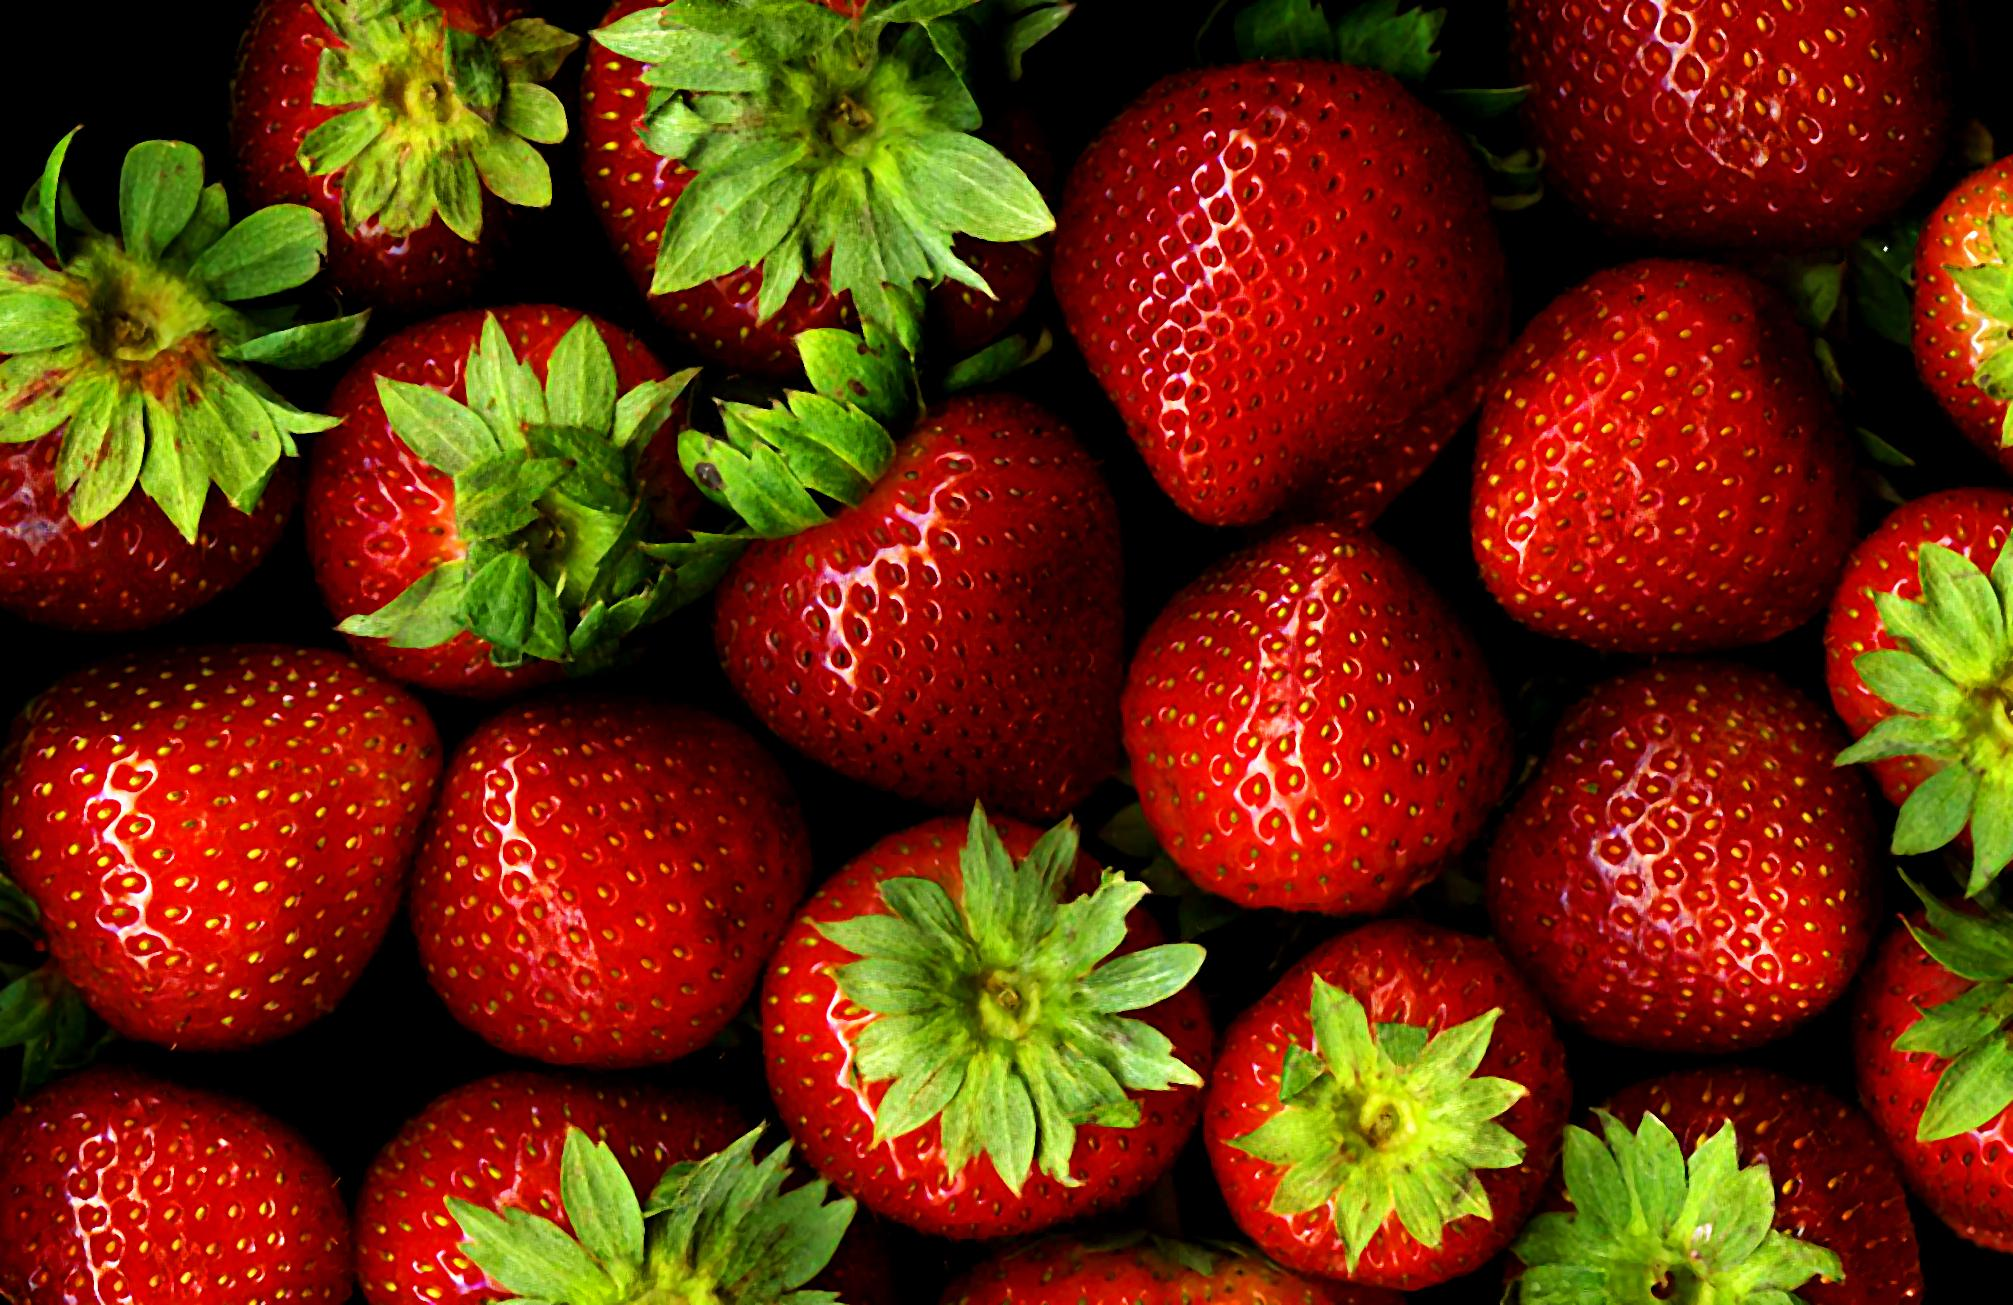strawberry: (1045, 46, 1489, 506), (764, 801, 1212, 1233), (715, 366, 1127, 806), (12, 628, 424, 1054), (304, 291, 716, 690), (1466, 239, 1840, 652), (1504, 647, 1863, 1070), (1134, 518, 1499, 928), (584, 10, 1012, 358), (412, 678, 781, 1080), (6, 144, 291, 634), (1218, 917, 1568, 1305), (357, 1066, 835, 1305), (227, 0, 568, 286), (15, 1066, 359, 1305)
